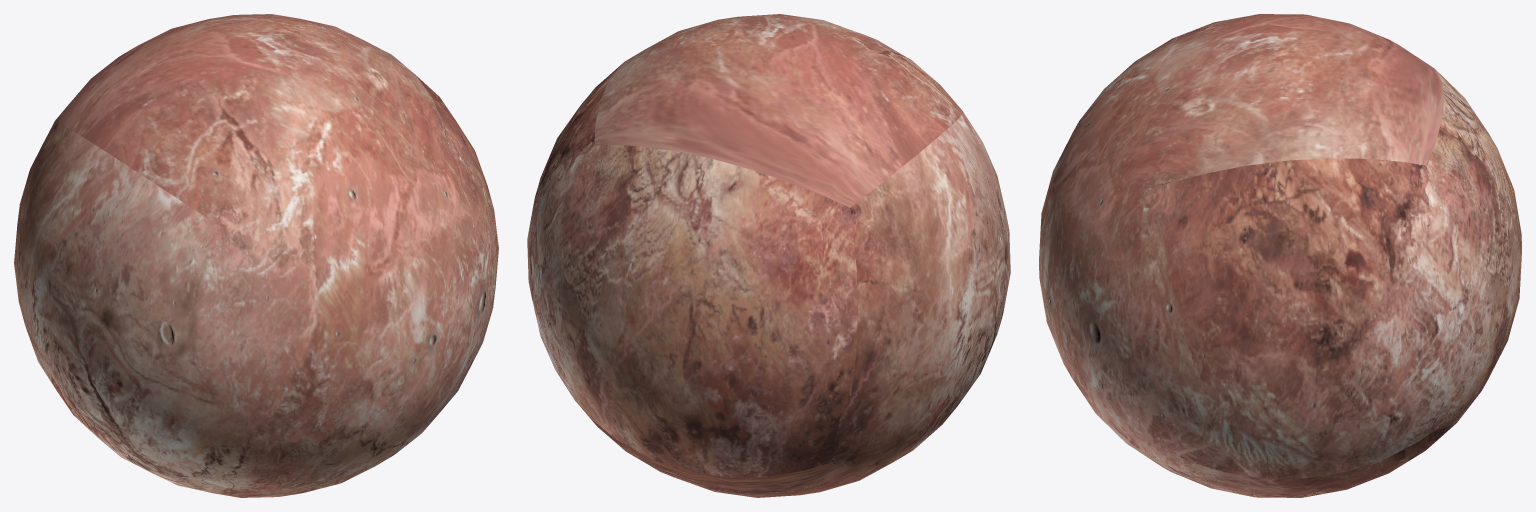
Rendered from ficunatus.obj.
The picture shows the model from 3 angles, left to right: view 1: azimuth 30°, elevation 25°; view 2: azimuth 150°, elevation 25°; view 3: azimuth 270°, elevation 25°; orthographic projection.
Parts seen in each view (by area): view 1: Earth; view 2: Earth; view 3: Earth.
Part boxes in pixels (x1,y1,x2,y2): Earth: (14,14,498,497); Earth: (527,14,1010,497); Earth: (1039,14,1521,497).
Bounding box in the file's own units: 586 × 588 × 586.
1 material, 1 textured.
